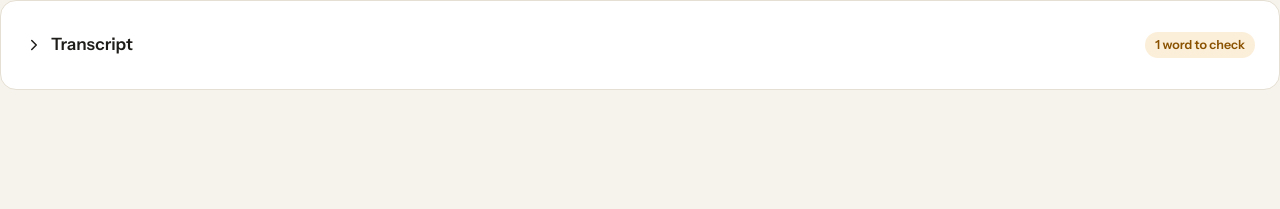
Test: TranscriptPanel › marks only the words the transcriber doubted, and keeps every word and space
Click the button "Transcript". click: [79, 45]
box: [17, 23, 141, 67]
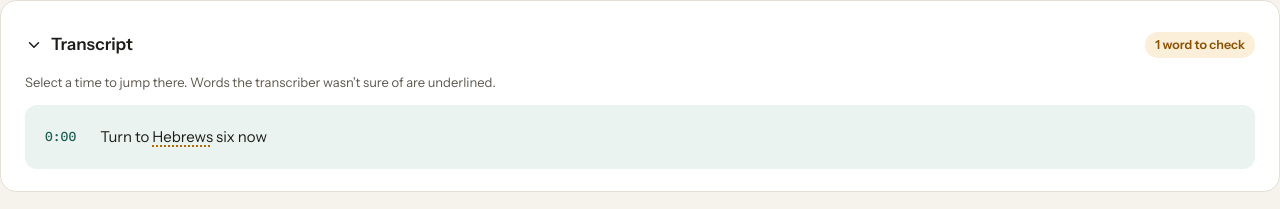
Now the text "Hebrews" reads "Turn to Hebrews six now", box [100, 126, 267, 146]
Now the text titled "wasn’t sure" reads "Hebrews", box [152, 126, 213, 146]
